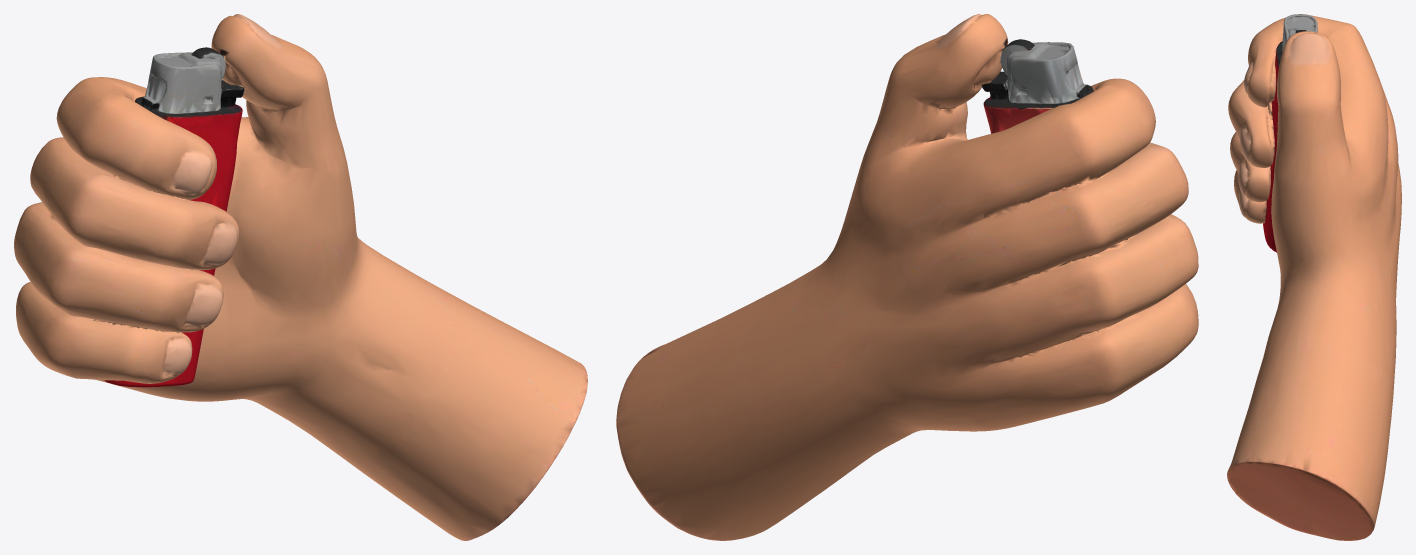
The model's file is lighter.glb.
3 renders of one model, left to right at view 1: azimuth 30°, elevation 25°; view 2: azimuth 150°, elevation 25°; view 3: azimuth 270°, elevation 25°, orthographic. The views are drawn at different scales.
Size of the model in its own units: 1.9 by 1.9 by 0.7083.
Materials: 1 (1 with a texture image).
